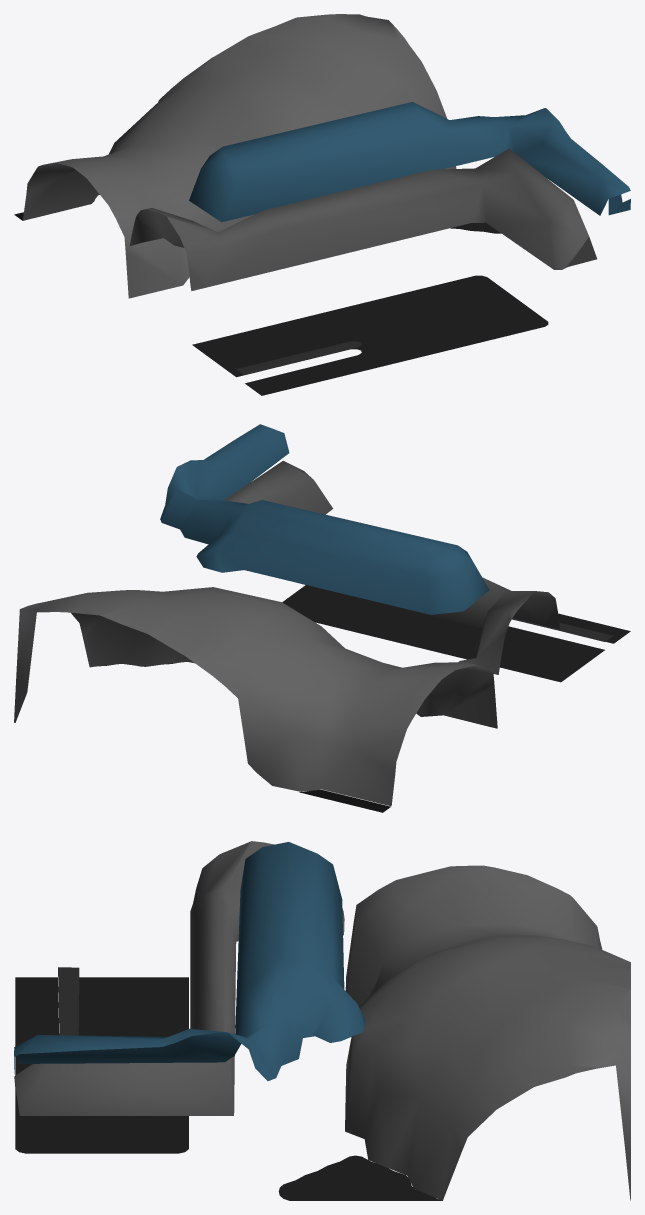
File: newsho-85.glb
3 views of the same model, one above another, from view 1: azimuth 30°, elevation 25°; view 2: azimuth 150°, elevation 25°; view 3: azimuth 270°, elevation 25° (orthographic). The views are drawn at different scales.
Visible parts, largest first — view 1: newsho-85; view 2: newsho-85; view 3: newsho-85.
Boxes of the visible parts, box(x1,y1,x2,y2) form: newsho-85: box(14, 14, 630, 395); newsho-85: box(14, 424, 630, 812); newsho-85: box(14, 841, 630, 1200).
Bounding box in the file's own units: 2 × 0.7506 × 2.33.
